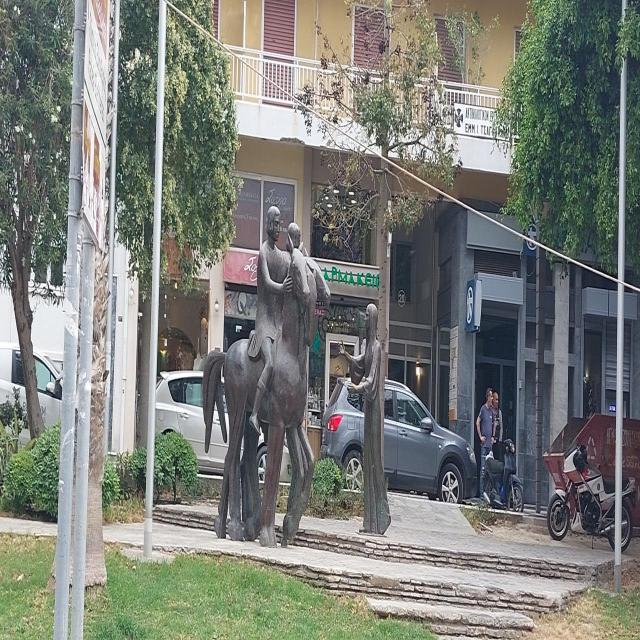Aretousa: (204, 206, 394, 547)
